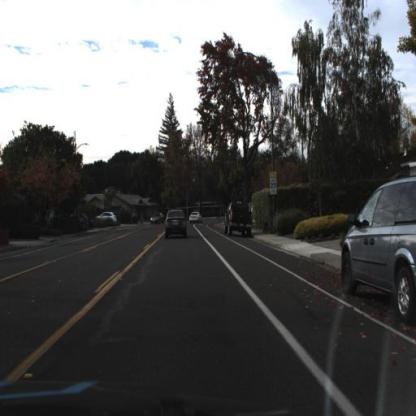car: (340, 177, 416, 329), (228, 203, 258, 239), (167, 211, 192, 243), (98, 217, 120, 229)
